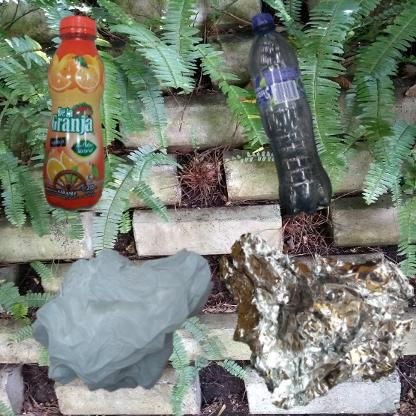aluminio: (213, 213, 416, 416)
bolsa: (10, 213, 278, 416)
botella: (10, 10, 169, 256), (213, 10, 380, 243)
